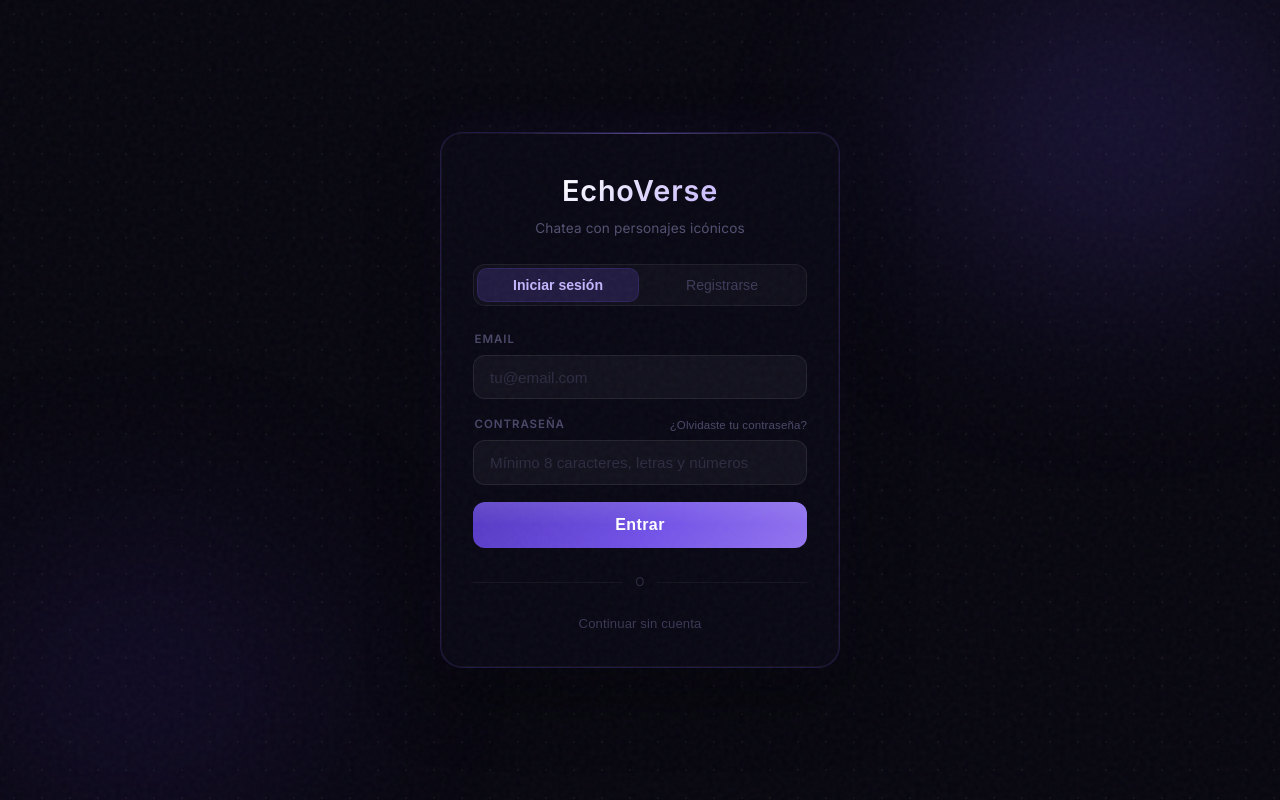
Test case: AuthPage — cambio de tab limpia estado › cambiar de tab limpia el mensaje de error visible
Type "bad@test.com" into the field with placeholder "tu@email.com" at (640, 377), box x1=473 y1=355 x2=807 y2=399
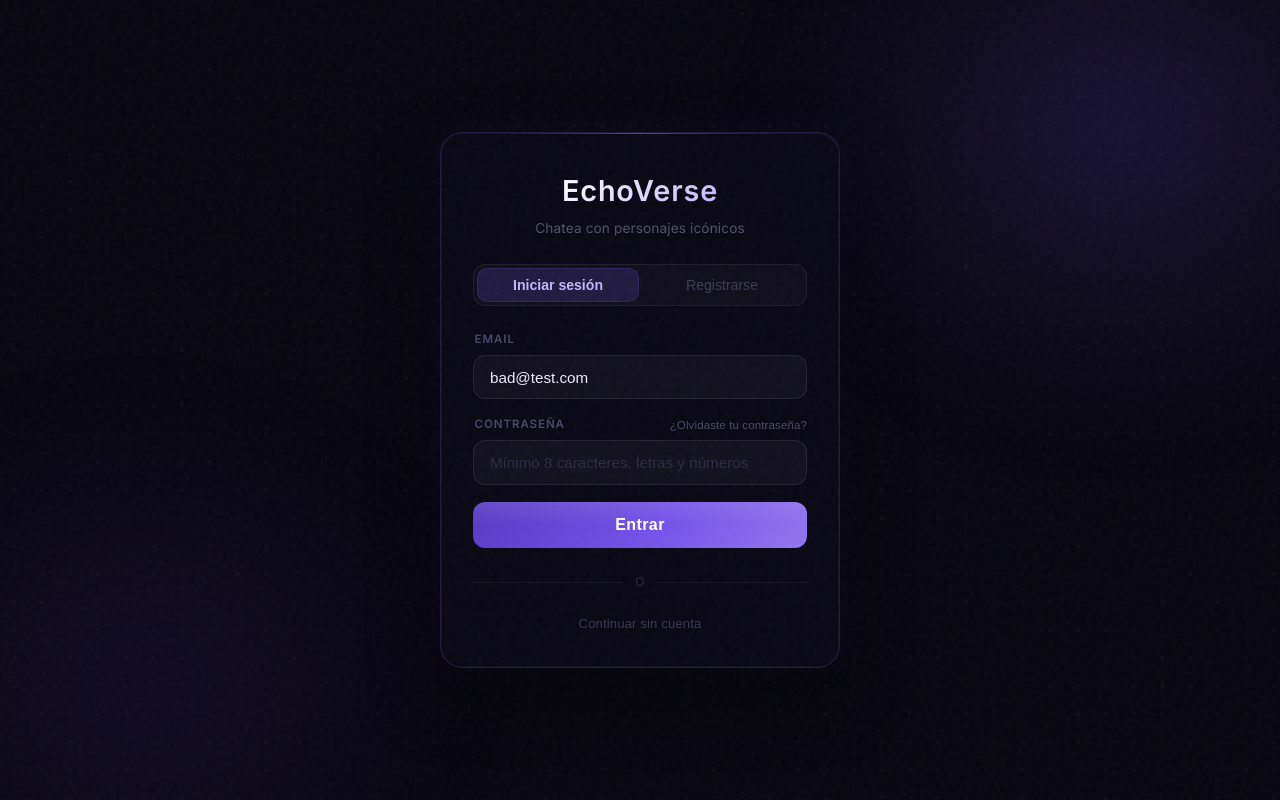
Type "wrongpass" into the password field with placeholder "Mínimo 8 caracteres, letras y números" at (640, 462), box x1=473 y1=440 x2=807 y2=485
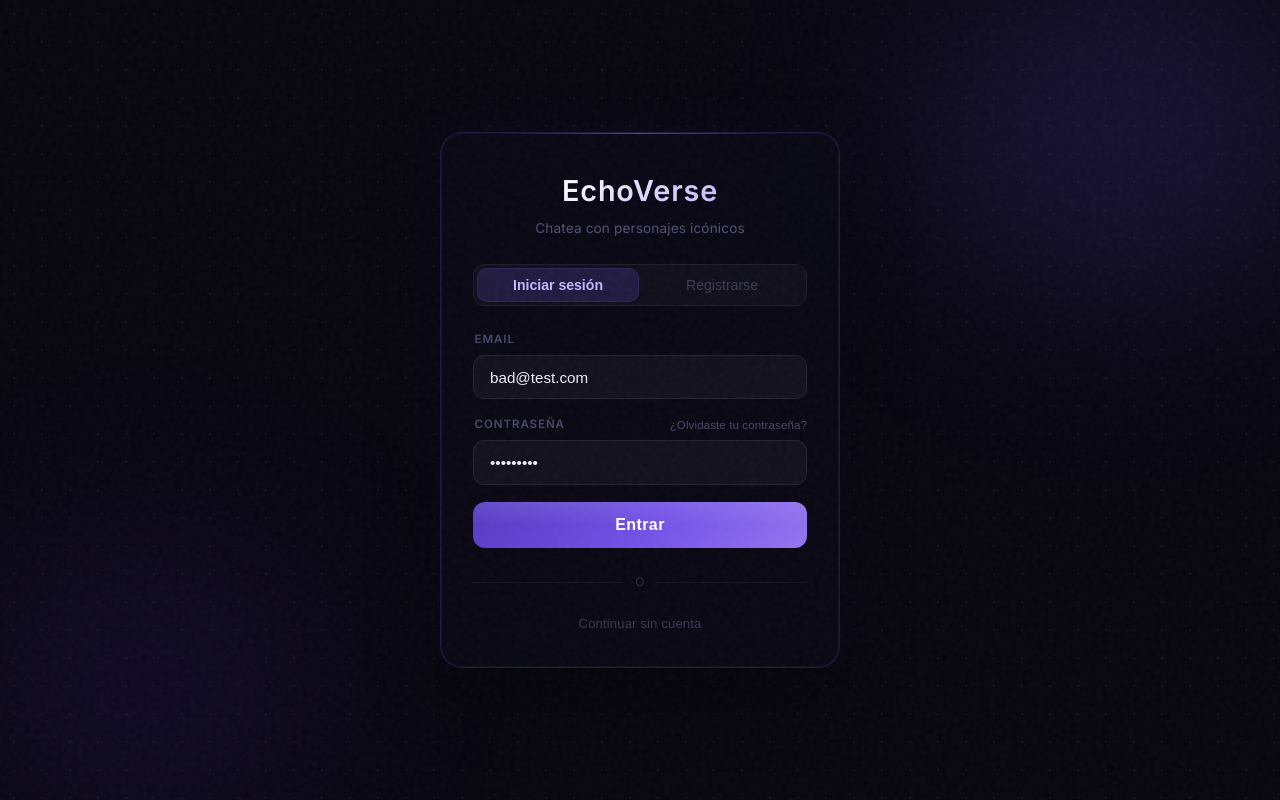
Submit the form "Entrar", box x1=473 y1=330 x2=807 y2=548
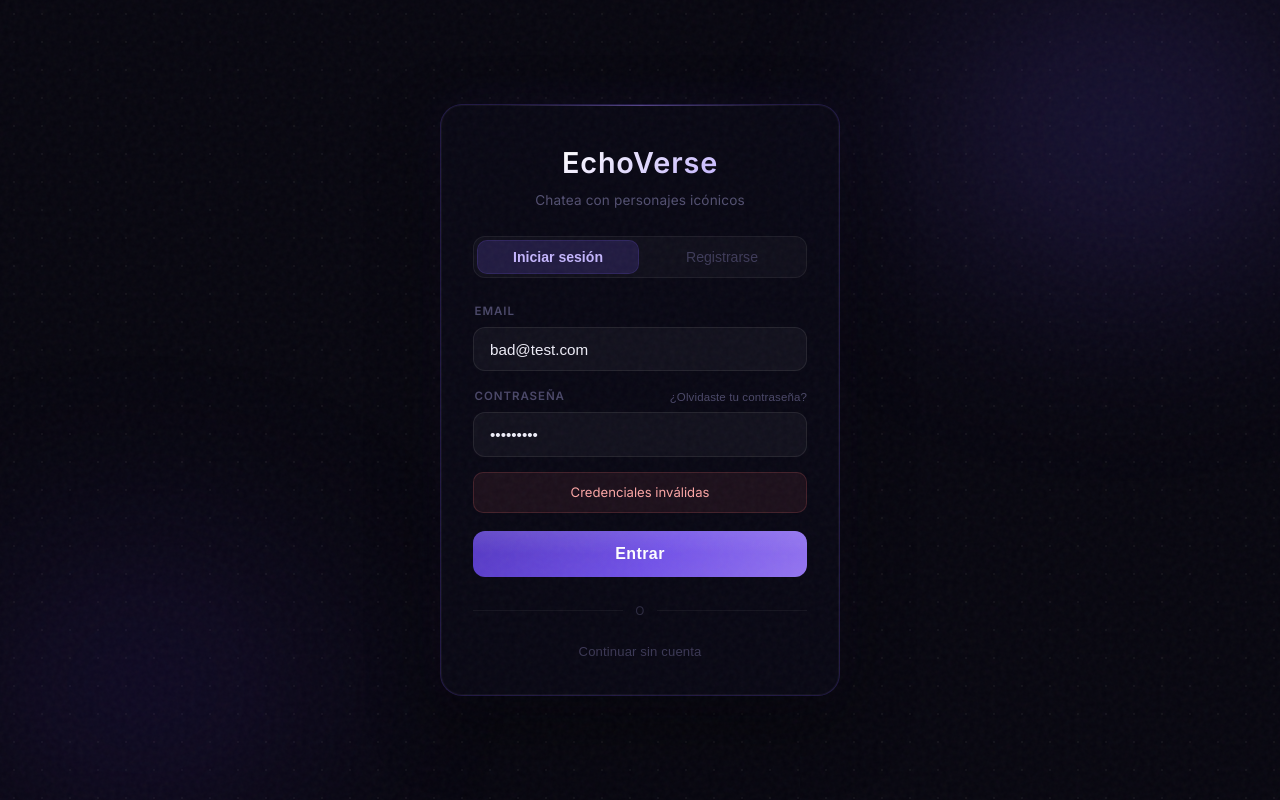
Now the text "Credenciales inválidas" is shown, box x1=473 y1=472 x2=807 y2=513
Click the button "Registrarse" at (722, 257), box x1=642 y1=241 x2=802 y2=273
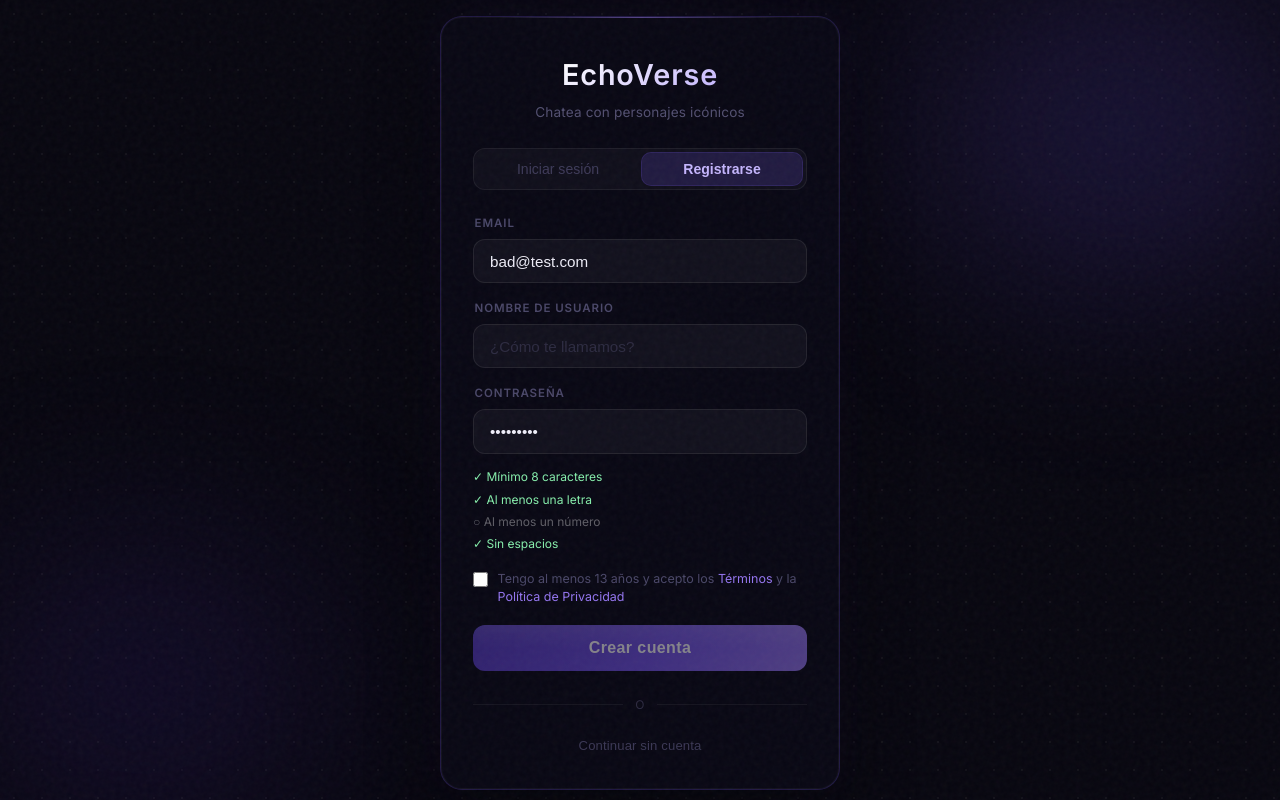
Now the text "Credenciales inválidas" is gone
